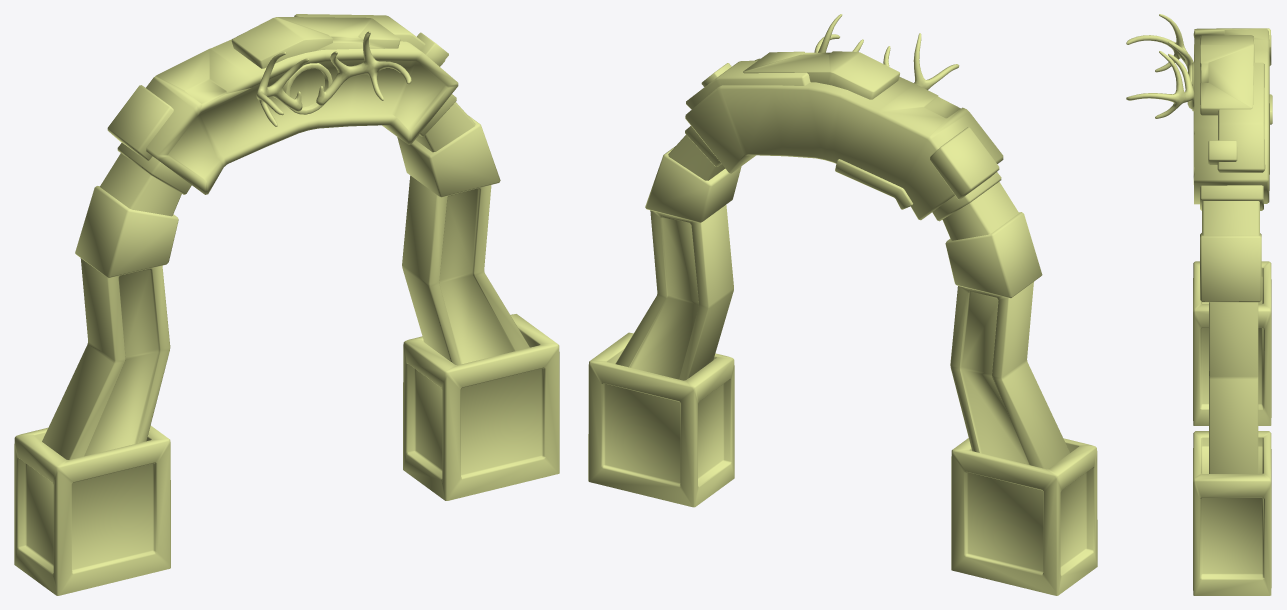
The model's file is Portal_Mesh.FBX.
3 views of the same model, side by side, from view 1: azimuth 30°, elevation 25°; view 2: azimuth 150°, elevation 25°; view 3: azimuth 270°, elevation 25° (orthographic). The views are drawn at different scales.
Parts seen in each view (by area): view 1: Gate_low; view 2: Gate_low; view 3: Gate_low.
Part boxes in pixels (bbox=[...]): Gate_low: bbox=[14, 14, 559, 595]; Gate_low: bbox=[588, 14, 1097, 595]; Gate_low: bbox=[1126, 14, 1272, 595].
Size of the model in its own units: 4.71 by 4.53 by 1.33.
